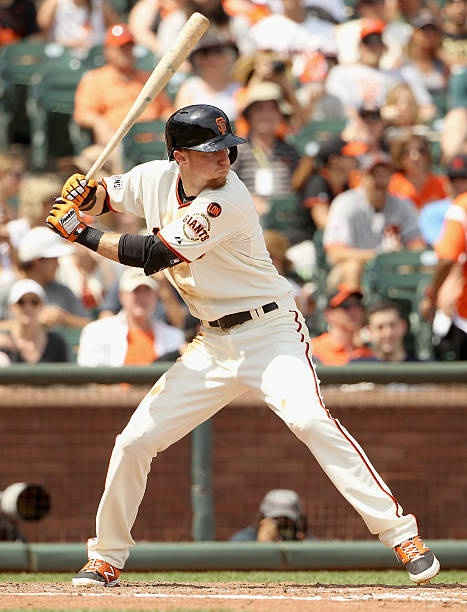bita: (65, 17, 210, 204)
